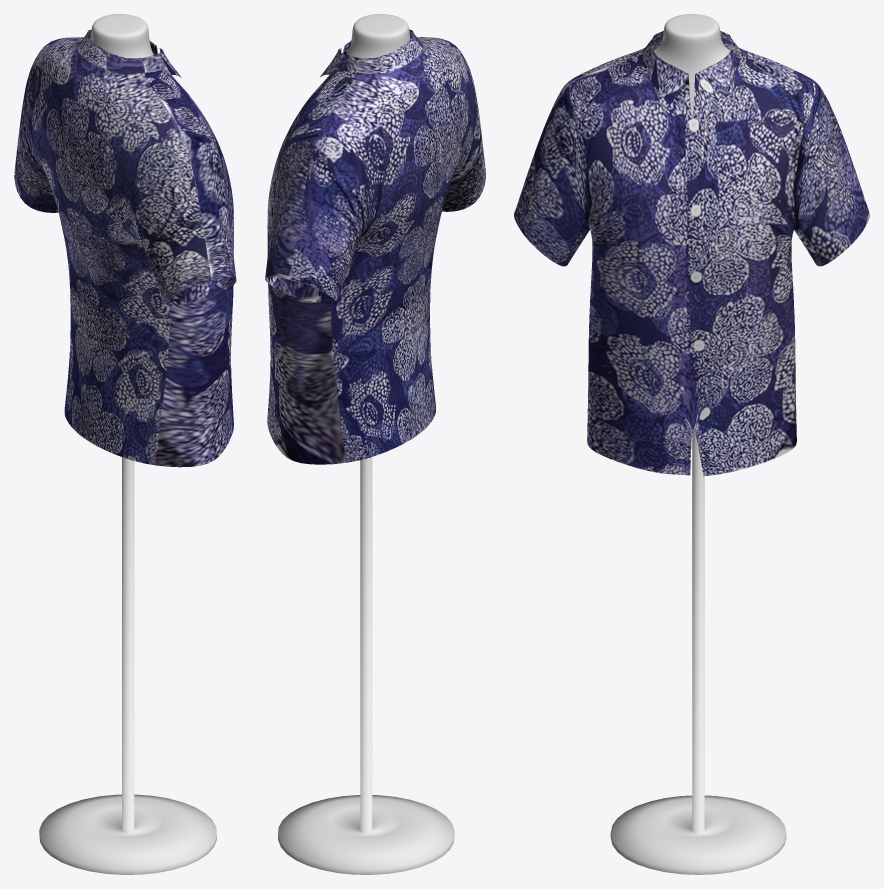
The model's file is BATIK MEN SHIRT.fbx.
The picture shows the model from 3 angles, left to right: view 1: azimuth 30°, elevation 25°; view 2: azimuth 150°, elevation 25°; view 3: azimuth 270°, elevation 25°; orthographic projection.
Visible parts, largest first — view 1: 5.041, 4.059; view 2: 5.041, 4.059; view 3: 5.041, 4.059.
Boxes of the visible parts, x1,y1,x2,y2 form: 5.041: (14, 14, 236, 467); 4.059: (39, 457, 216, 874); 5.041: (265, 14, 485, 464); 4.059: (278, 457, 454, 874); 5.041: (514, 14, 869, 476); 4.059: (610, 430, 786, 874).
Bounding box in the file's own units: 34.98 × 162 × 64.57.
2 materials, 1 textured.
